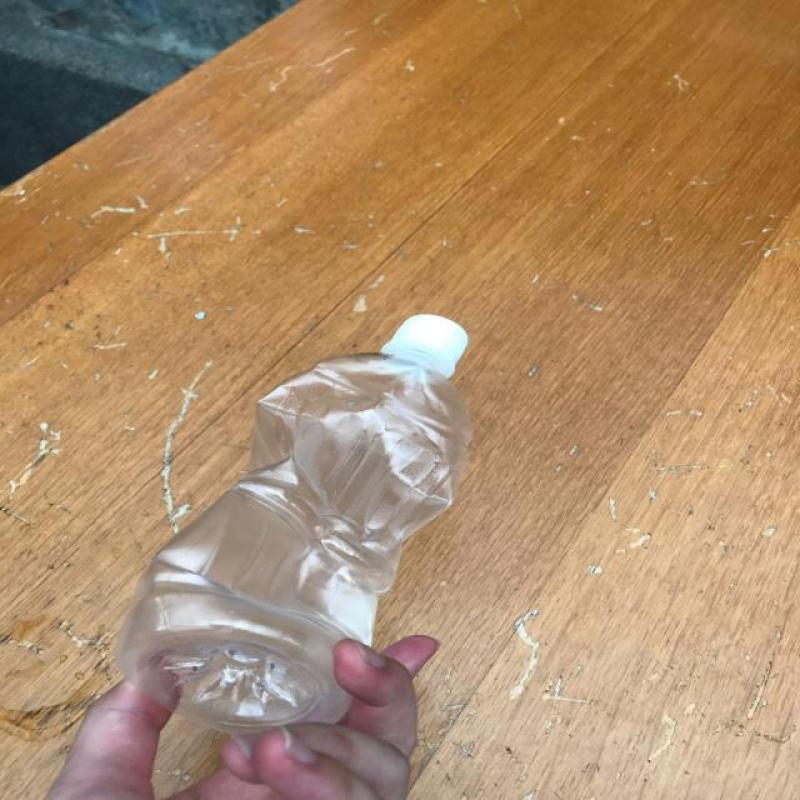botella: (116, 315, 470, 735)
